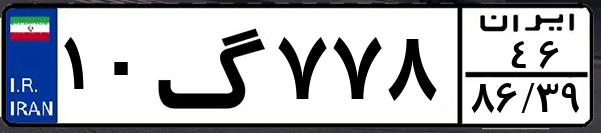0: (110, 28, 156, 98)
1: (57, 26, 110, 100)
3: (535, 70, 560, 125)
4: (508, 27, 537, 80)
6: (537, 27, 568, 80), (495, 70, 520, 125)
7: (270, 28, 330, 110), (330, 28, 385, 110)
8: (385, 28, 445, 110), (470, 70, 495, 125)
9: (560, 70, 590, 125)
گ: (156, 12, 270, 120)
